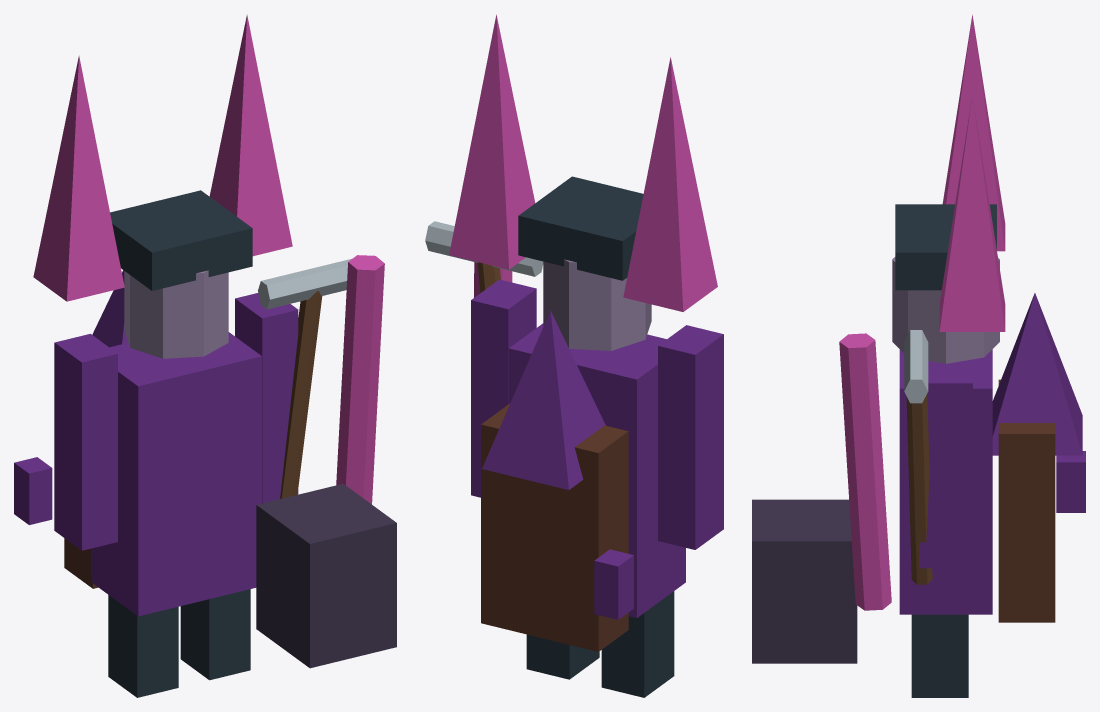
File: worker.obj
3 views of the same model, side by side, from view 1: azimuth 30°, elevation 25°; view 2: azimuth 150°, elevation 25°; view 3: azimuth 270°, elevation 25° (orthographic). The views are drawn at different scales.
Visible parts, largest first — view 1: worker; view 2: worker; view 3: worker.
Part boxes in pixels (box(x1,y1,x2,y2)): worker: box(14, 14, 396, 697); worker: box(425, 14, 723, 697); worker: box(752, 14, 1085, 697).
Size of the model in its own units: 0.9952 by 2.07 by 1.01.
